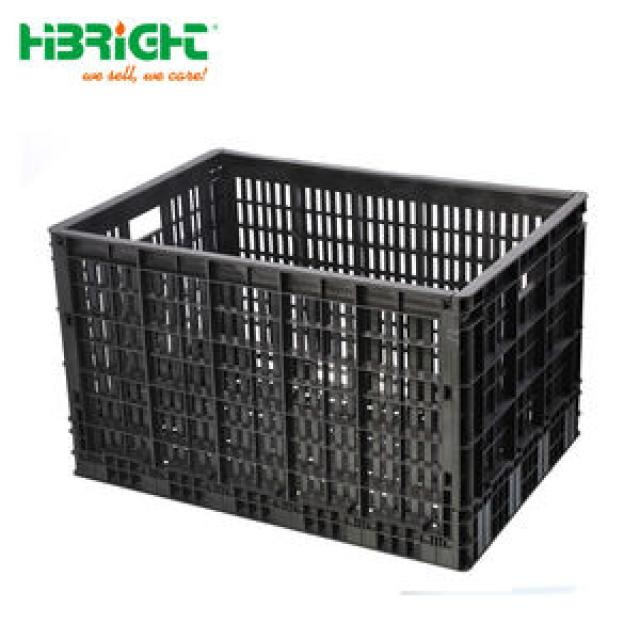basket: (17, 131, 609, 582)
